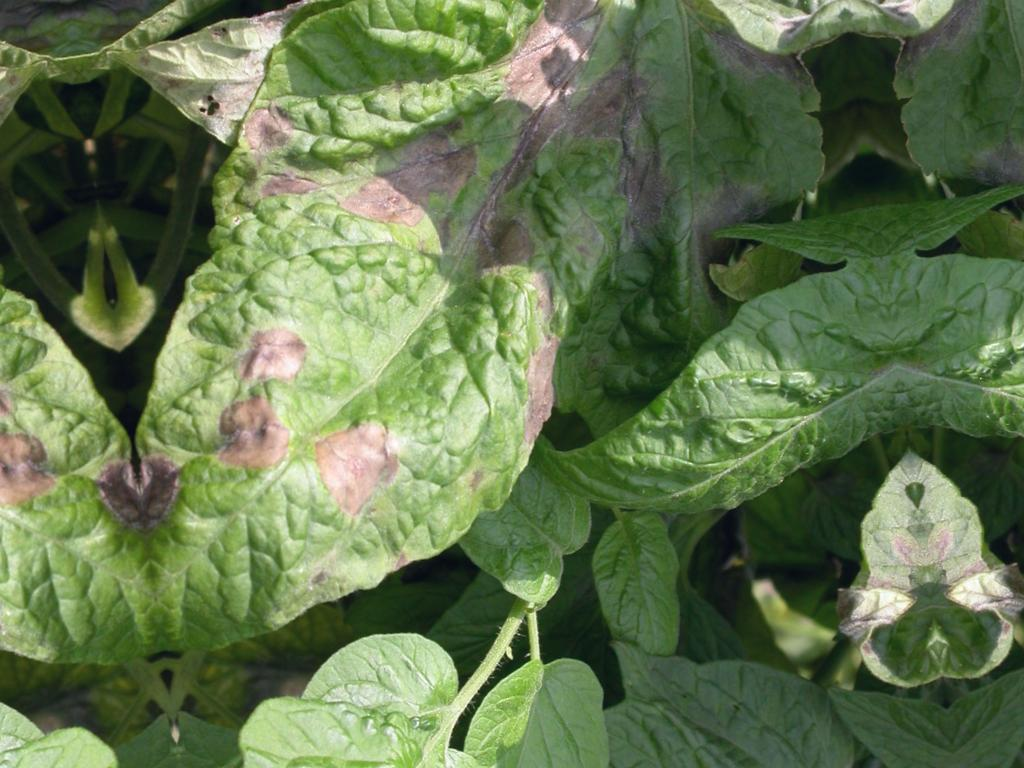Tomato leaf late blight: (76, 0, 773, 649), (539, 625, 886, 768)
